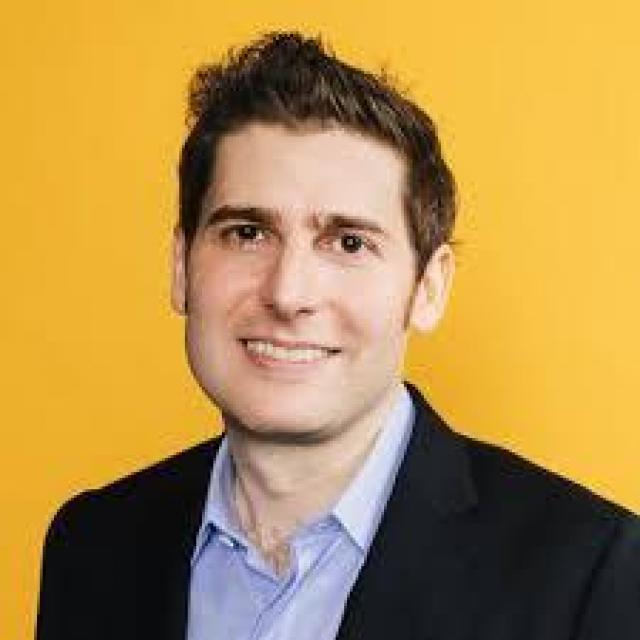person: (31, 31, 626, 634)
